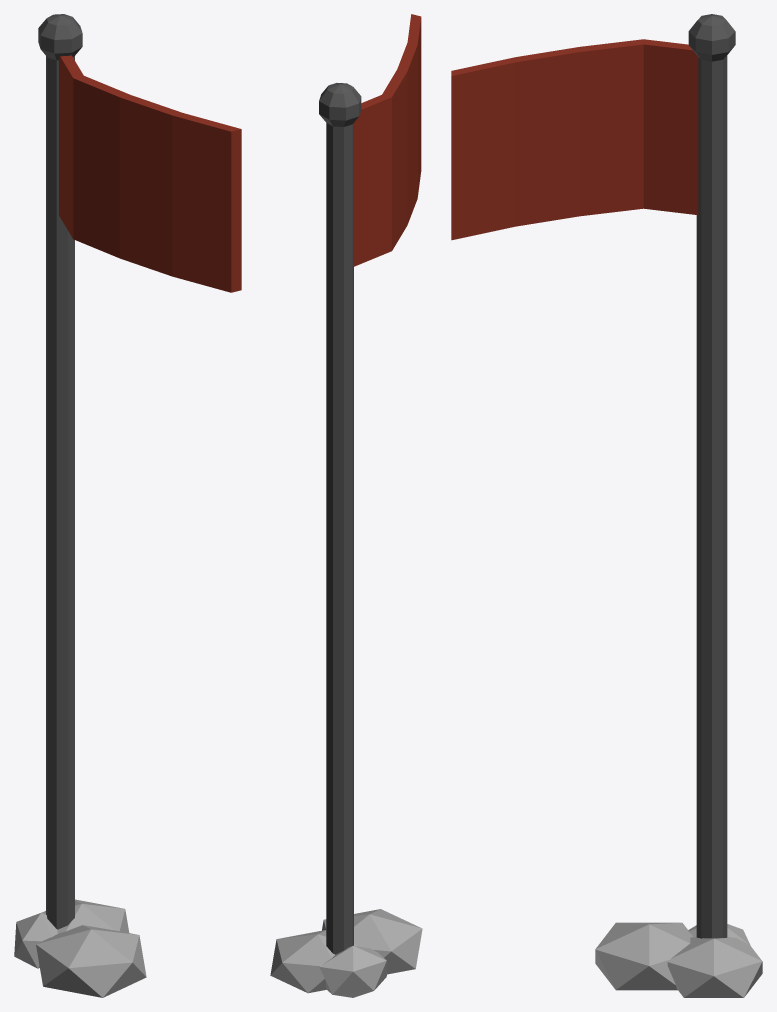
The model's file is BuildPlatform.fbx.
The picture shows the model from 3 angles, left to right: view 1: azimuth 30°, elevation 25°; view 2: azimuth 150°, elevation 25°; view 3: azimuth 270°, elevation 25°; orthographic projection. The views are drawn at different scales.
Visible parts, largest first — view 1: BuildPlatform; view 2: BuildPlatform; view 3: BuildPlatform.
Boxes of the visible parts, x1=… form: BuildPlatform: x1=14, y1=14, x2=241, y2=997; BuildPlatform: x1=270, y1=14, x2=422, y2=997; BuildPlatform: x1=451, y1=14, x2=762, y2=997.
Bounding box in the file's own units: 26.07 × 209 × 60.45.
